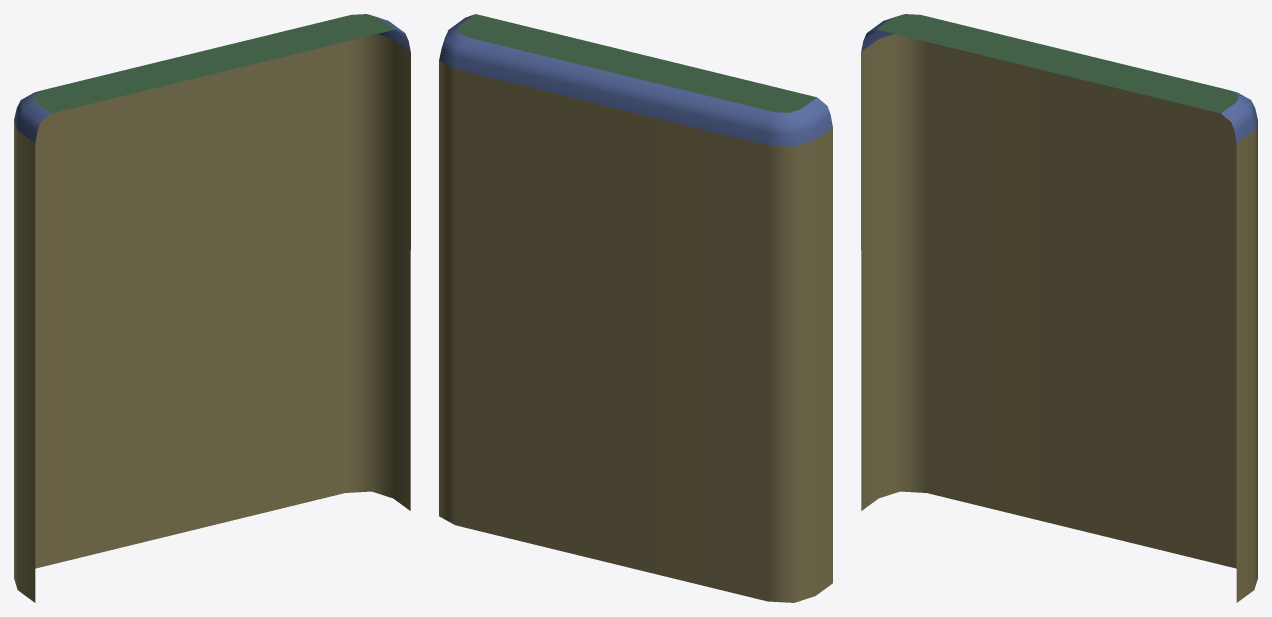
The model's file is Mini_plat_3.fbx.
3 views of the same model, side by side, from view 1: azimuth 30°, elevation 25°; view 2: azimuth 150°, elevation 25°; view 3: azimuth 330°, elevation 25° (orthographic).
Parts seen in each view (by area): view 1: Mini_plat_3, Ground5, Wall5; view 2: Mini_plat_3, Wall5, Ground5; view 3: Mini_plat_3, Ground5, Wall5.
Part boxes in pixels (x1,y1,x2,y2): Mini_plat_3: [14, 34, 410, 602]; Ground5: [33, 14, 394, 113]; Wall5: [14, 14, 410, 143]; Mini_plat_3: [439, 60, 832, 602]; Wall5: [439, 14, 832, 146]; Ground5: [458, 14, 816, 112]; Mini_plat_3: [861, 34, 1257, 602]; Ground5: [877, 14, 1238, 113]; Wall5: [861, 14, 1257, 143].
Size of the model in its own units: 4175 by 5159 by 678.
